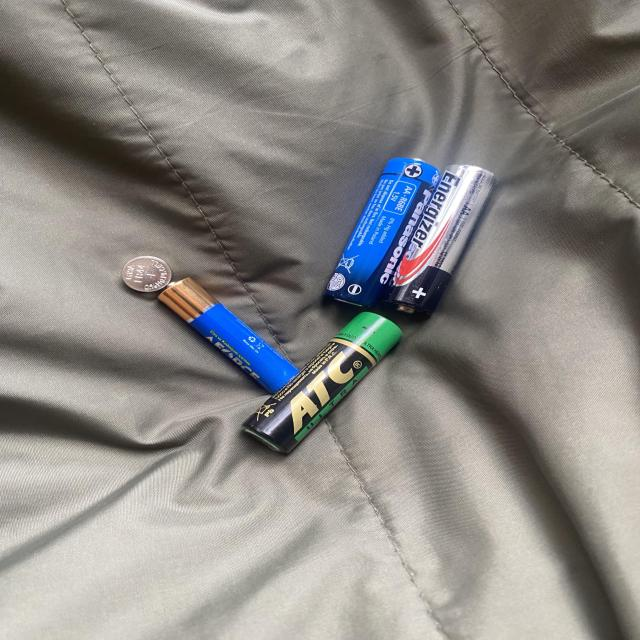AA: (238, 310, 409, 457), (378, 163, 500, 323), (321, 156, 444, 310)
AAA: (155, 276, 304, 398)
COIN: (120, 255, 173, 294)
